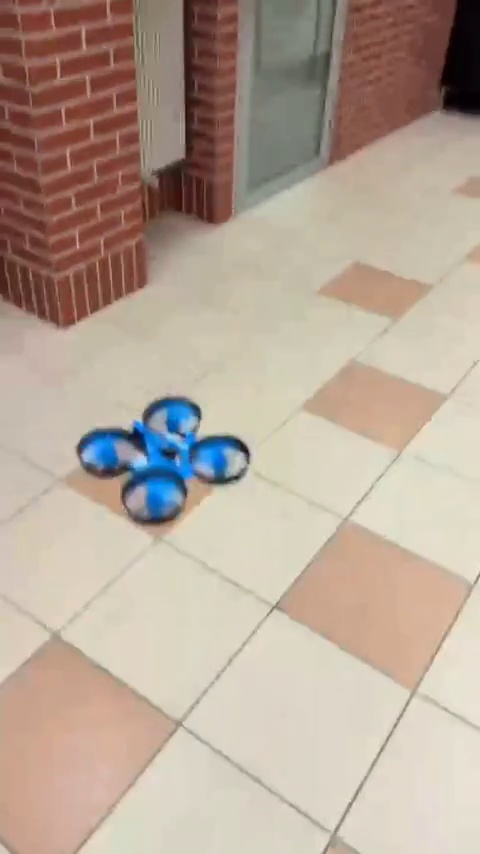drone: (77, 394, 249, 518)
